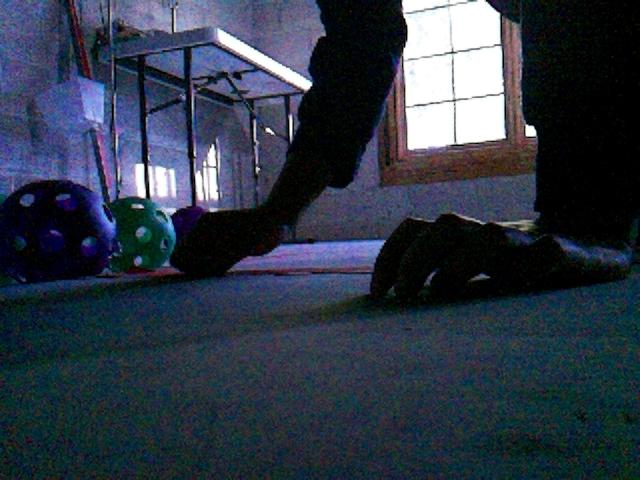Green: (104, 197, 175, 272)
Purple: (0, 178, 116, 282), (169, 205, 206, 248)
